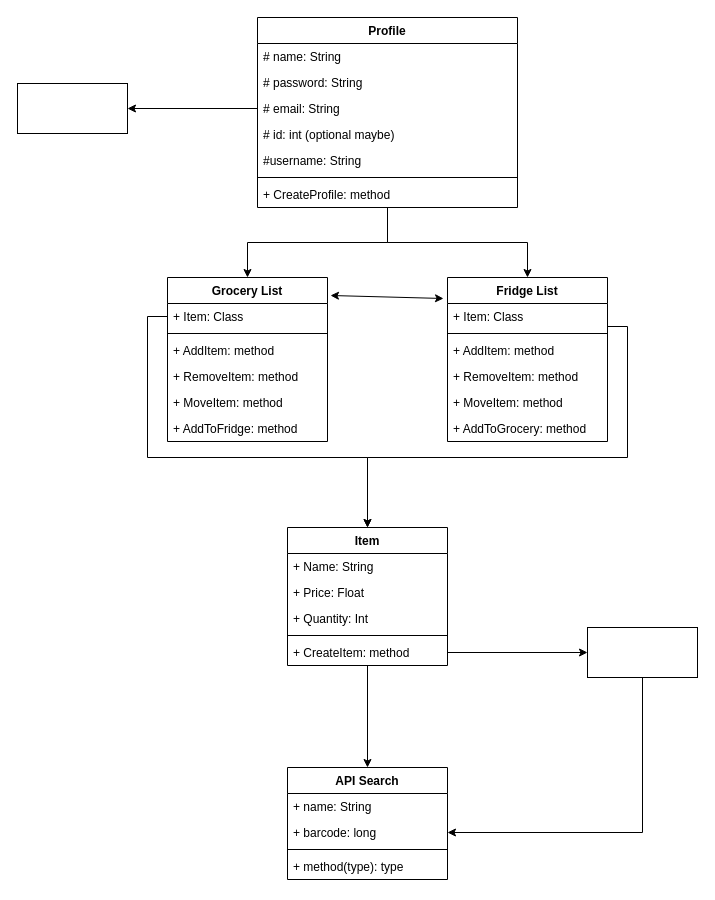
Image size: 715x900. Some labels were removed from this diagram. Here are the shapes that lost their labels. From the top down, the centre of each, then its label:
point 72,108: Analytics
point 642,652: Camera
